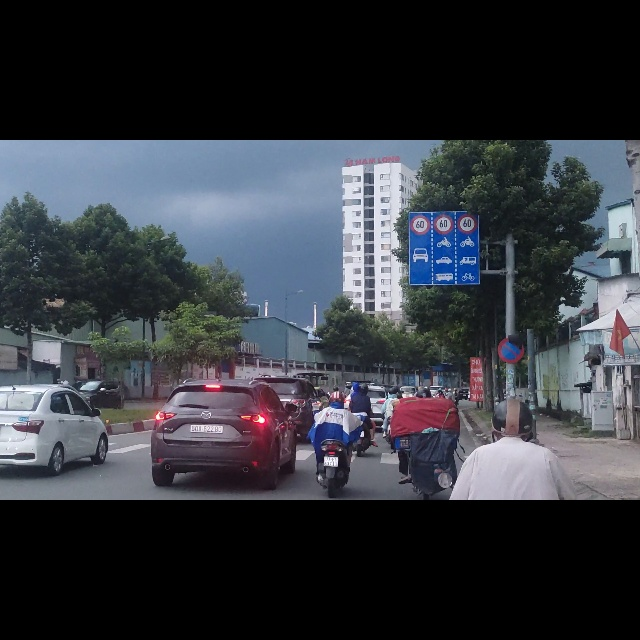bien_chi_dan: (409, 169, 480, 256), (498, 353, 523, 396), (411, 134, 430, 168), (434, 133, 453, 167), (458, 132, 477, 165)
